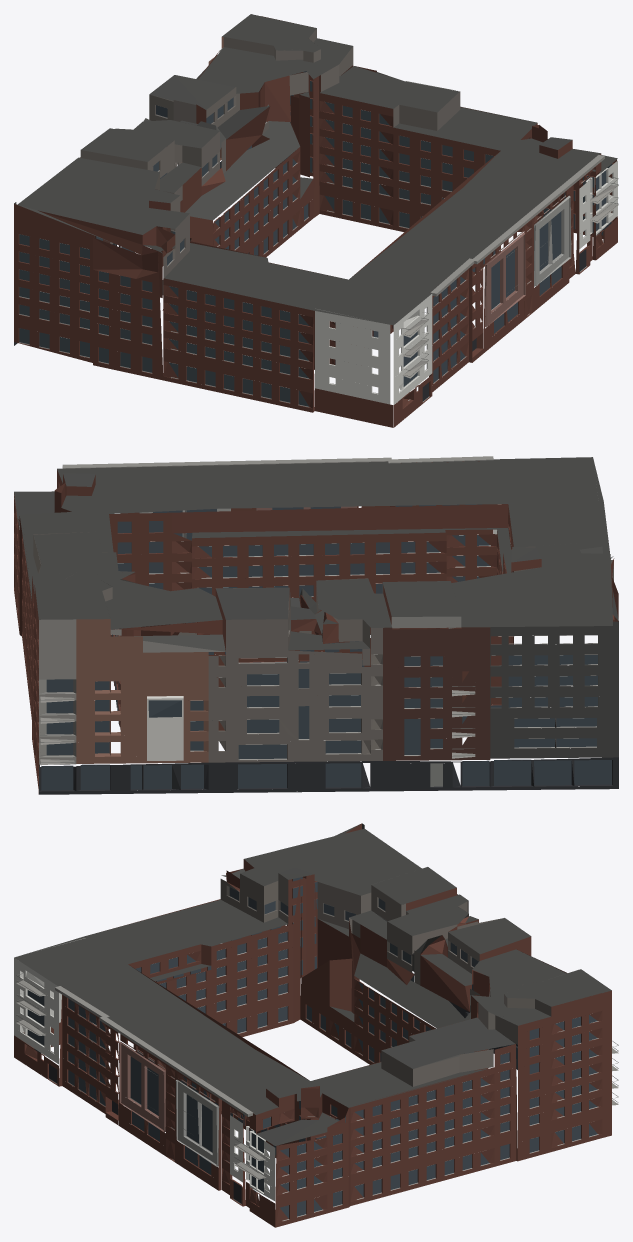
The model's file is rapenburgerstraat-220.lod1.glb.
The picture shows the model from 3 angles, top to bottom: view 1: azimuth 30°, elevation 25°; view 2: azimuth 150°, elevation 25°; view 3: azimuth 270°, elevation 25°; orthographic projection. The views are drawn at different scales.
Parts seen in each view (by area): view 1: rapenburgerstraat-220; view 2: rapenburgerstraat-220; view 3: rapenburgerstraat-220.
Part boxes in pixels (x1,y1,x2,y2): rapenburgerstraat-220: (14, 14, 618, 427); rapenburgerstraat-220: (14, 456, 618, 794); rapenburgerstraat-220: (14, 823, 618, 1227).
Bounding box in the file's own units: 84.84 × 21.68 × 81.62.
